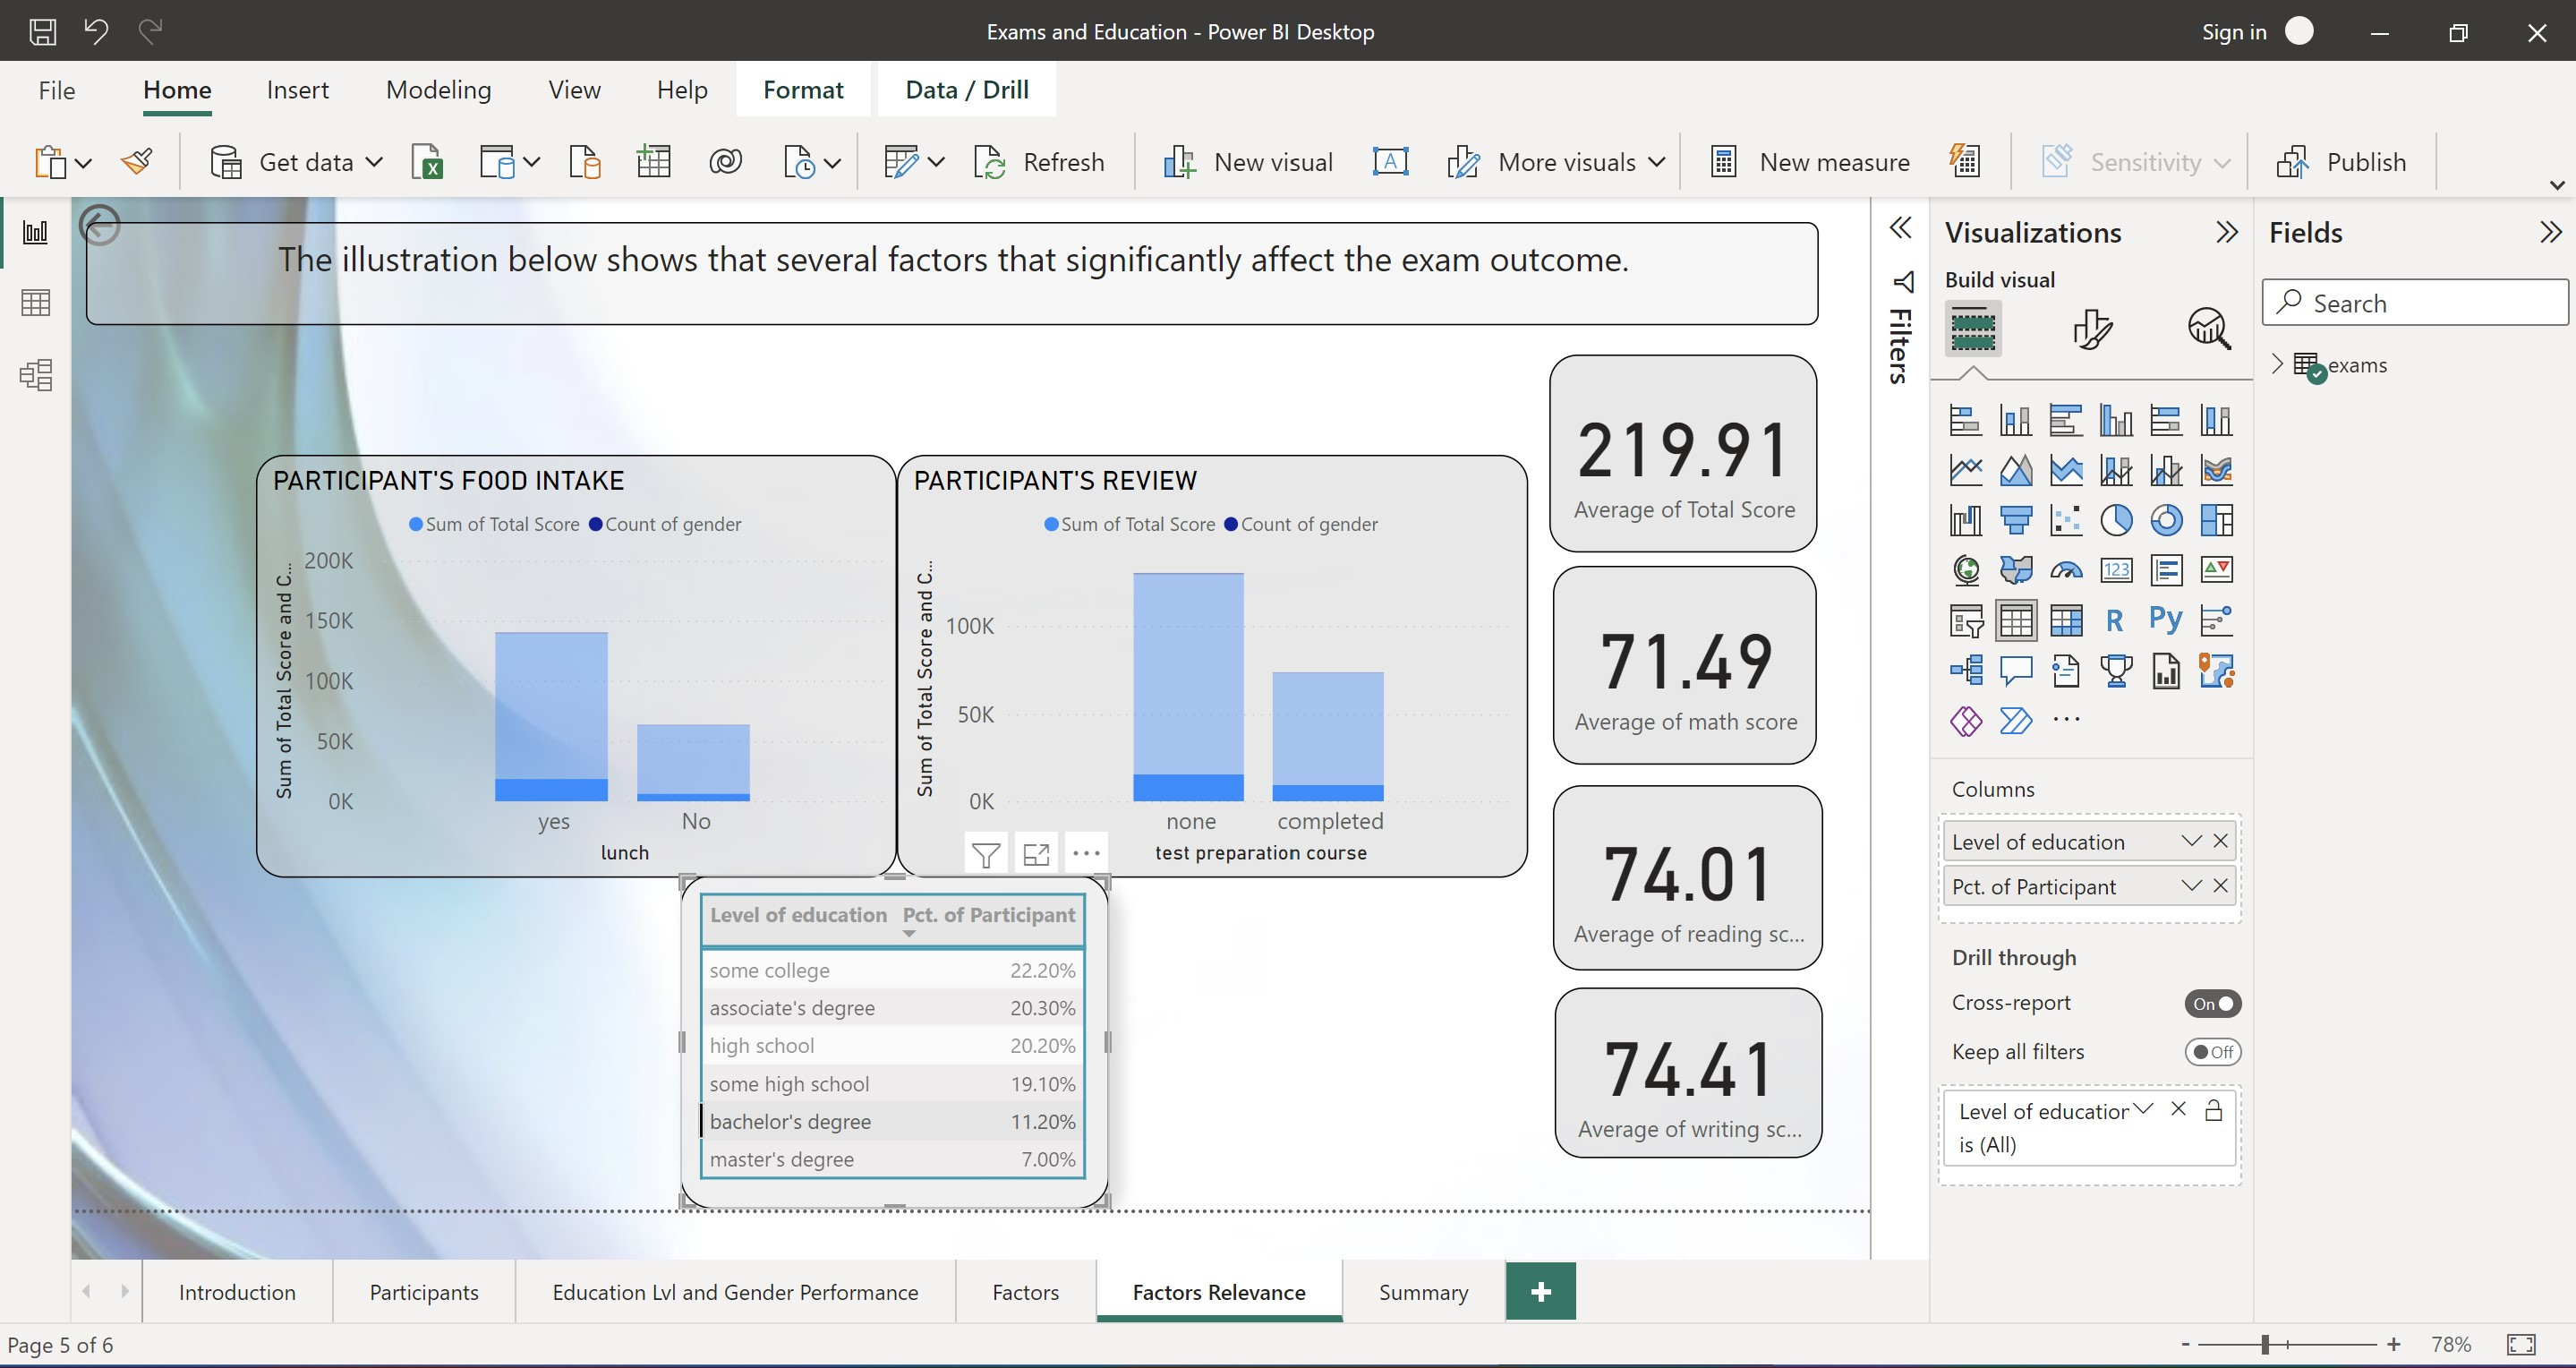

The page's visual inventory and layout, read from the dashboard file:
{"tool":"powerbi","page":{"name":" Factors Relevance","canvas":[1280,720],"ordinal":4},"visuals":[{"type":"card","title":"Level of education running total in Level of education by Level of education","fields":{"Values":["Avg(exams.math score)"]},"box":[1054.6,262.9,187.8,141.2],"z":0},{"type":"textbox","box":[474.7,0,461.2,55.6],"z":1000},{"type":"actionButton","box":[0,0,100,40],"z":2000},{"type":"columnChart","title":"PARTICIPANT''S FOOD INTAKE","fields":{"Category":["exams.lunch"],"Y":["Sum(exams.Total Score)","CountNonNull(exams.gender)"]},"box":[130.7,183.3,456.7,300.5],"z":3000},{"type":"card","title":"Level of education running total in Level of education by Level of education","fields":{"Values":["Avg(exams.reading score)"]},"box":[1054.6,417.7,192.3,132.2],"z":4000},{"type":"card","title":"Level of education running total in Level of education by Level of education","fields":{"Values":["Avg(exams.writing score)"]},"box":[1056.2,561.9,190.8,121.7],"z":5000},{"type":"textbox","box":[10,18.3,1233.3,73.3],"z":6000},{"type":"card","title":"Level of education running total in Level of education by Level of education","fields":{"Values":["Avg(exams.Total Score)"]},"box":[1051.6,112.7,190.8,141.2],"z":7000},{"type":"columnChart","title":"PARTICIPANT''S REVIEW","fields":{"Category":["exams.test preparation course"],"Y":["Sum(exams.Total Score)","CountNonNull(exams.gender)"]},"box":[587.4,183.3,449.2,300.5],"z":8000},{"type":"tableEx","fields":{"Values":["exams.Level of education","Divide(exams.Count of gender running total in gender, ScopedEval(exams.Count of gender running total in gender, [Role.Co"]},"box":[433.3,481.8,305.5,238.2],"z":9000}]}

Visuals, with their boxes on the page's 1280x720 design canvas (x1, y1, x2, y2). These are canvas units, not pixel positions in the 2576x1368 screenshot, which may show the page scaled, cropped or inside an application window:
"Level of education running total in Level of education by Level of education" card: [1055, 263, 1242, 404]
textbox: [475, 0, 936, 56]
actionButton: [0, 0, 100, 40]
"PARTICIPANT''S FOOD INTAKE" columnChart: [131, 183, 587, 484]
"Level of education running total in Level of education by Level of education" card: [1055, 418, 1247, 550]
"Level of education running total in Level of education by Level of education" card: [1056, 562, 1247, 684]
textbox: [10, 18, 1243, 92]
"Level of education running total in Level of education by Level of education" card: [1052, 113, 1242, 254]
"PARTICIPANT''S REVIEW" columnChart: [587, 183, 1037, 484]
tableEx - exams.Level of education x Divide(exams.Count of gender running total in gender, ScopedEval(exams.Count of gender running total in gender, [Role.Co: [433, 482, 739, 720]
